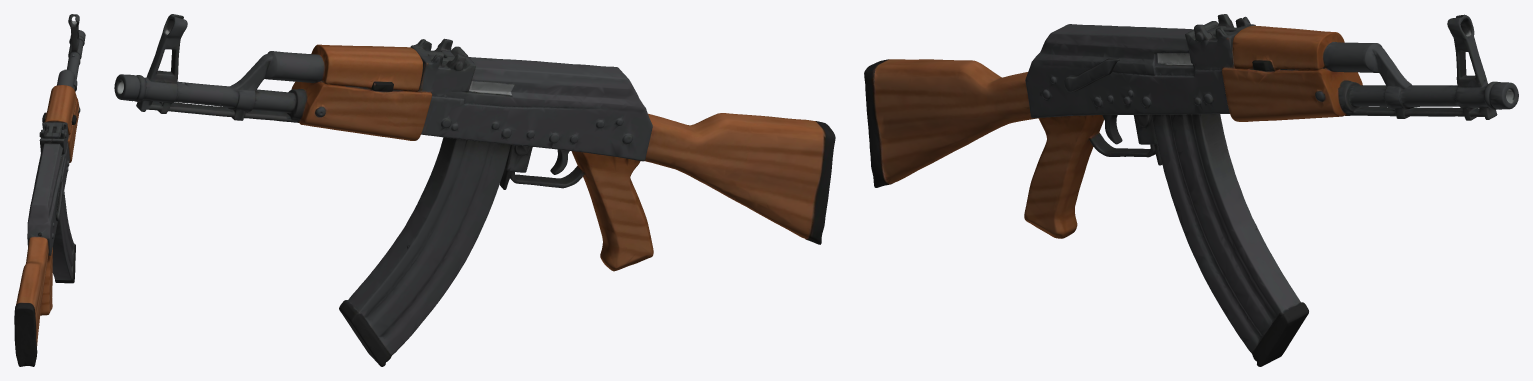
File: rifle.glb
3 views of the same model, side by side, from view 1: azimuth 30°, elevation 25°; view 2: azimuth 150°, elevation 25°; view 3: azimuth 270°, elevation 25° (orthographic). The views are drawn at different scales.
Visible parts, largest first — view 1: geometry_0; view 2: geometry_0; view 3: geometry_0.
Boxes of the visible parts, <box> form: geometry_0: <box>14,14,85,366</box>; geometry_0: <box>114,14,835,366</box>; geometry_0: <box>864,14,1518,366</box>.
Size of the model in its own units: 0.6988 by 0.6101 by 0.9.
1 material, 1 textured.
